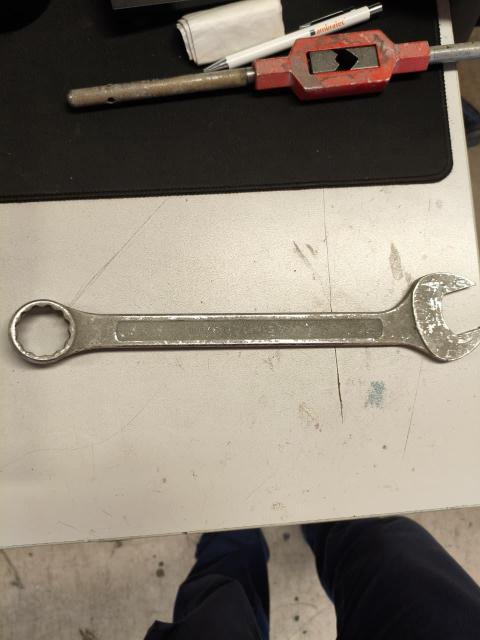Kagit: (187, 0, 280, 47)
Metal: (18, 283, 480, 390), (66, 44, 480, 108)
Plastik: (207, 20, 390, 55)
